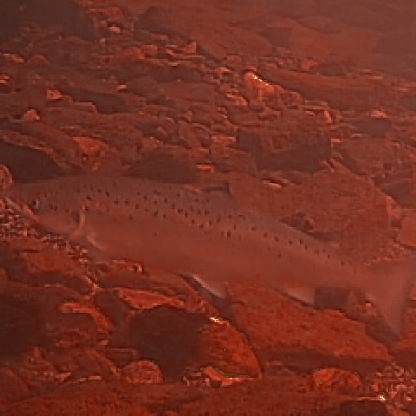salmon: (2, 173, 414, 343)
